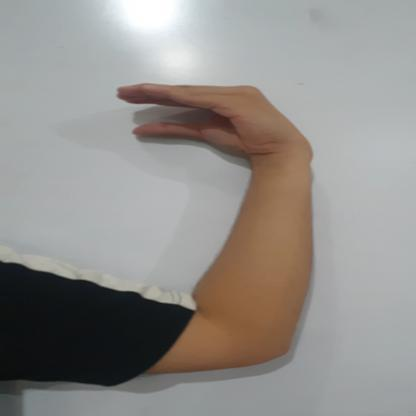Pagi: (113, 81, 318, 162)
